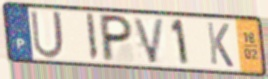1: (170, 18, 191, 68)
I: (85, 12, 100, 63)
K: (205, 20, 236, 69)
P: (100, 12, 134, 63)
U: (28, 9, 66, 61)
V: (131, 16, 167, 65)
